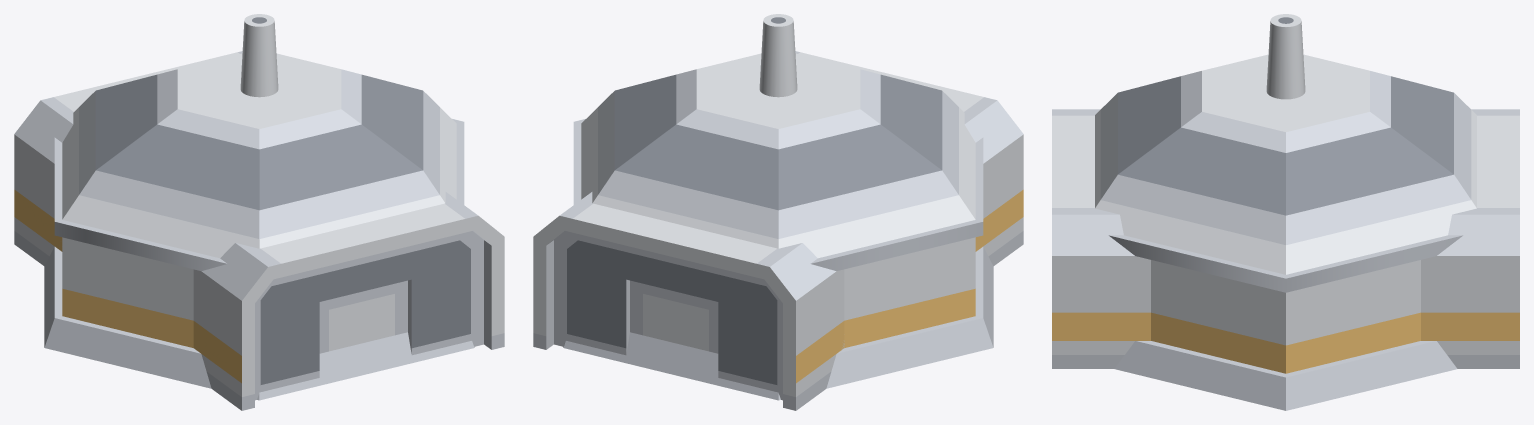
File: kit-pack.glb
3 views of the same model, side by side, from view 1: azimuth 30°, elevation 25°; view 2: azimuth 150°, elevation 25°; view 3: azimuth 270°, elevation 25° (orthographic). The views are drawn at different scales.
Parts seen in each view (by area): view 1: hangar_roundA, hangar_largeA, gate, hangar_roundGlass, hangar_largeB, chimney, hangar_smallA; view 2: hangar_roundA, hangar_largeA, gate, hangar_roundGlass, hangar_largeB, chimney; view 3: hangar_roundA, hangar_largeA, hangar_largeB, hangar_roundGlass, chimney, hangar_smallA.
Boxes of the visible parts, x1,y1,x2,y2 form: hangar_roundA: [54, 53, 464, 347]; hangar_largeA: [14, 51, 504, 410]; gate: [255, 231, 483, 400]; hangar_roundGlass: [44, 247, 474, 400]; hangar_largeB: [14, 51, 491, 410]; chimney: [240, 14, 278, 97]; hangar_smallA: [52, 159, 205, 344]; hangar_roundA: [573, 53, 983, 347]; hangar_largeA: [533, 51, 1023, 410]; gate: [554, 231, 782, 400]; hangar_roundGlass: [563, 247, 993, 400]; hangar_largeB: [546, 52, 1023, 410]; chimney: [759, 14, 797, 97]; hangar_roundA: [1095, 54, 1476, 373]; hangar_largeA: [1052, 109, 1519, 368]; hangar_largeB: [1052, 109, 1519, 368]; hangar_roundGlass: [1114, 341, 1457, 410]; chimney: [1266, 14, 1305, 99]; hangar_smallA: [1130, 252, 1441, 345].
Size of the model in its own units: 3.27 by 2 by 3.
